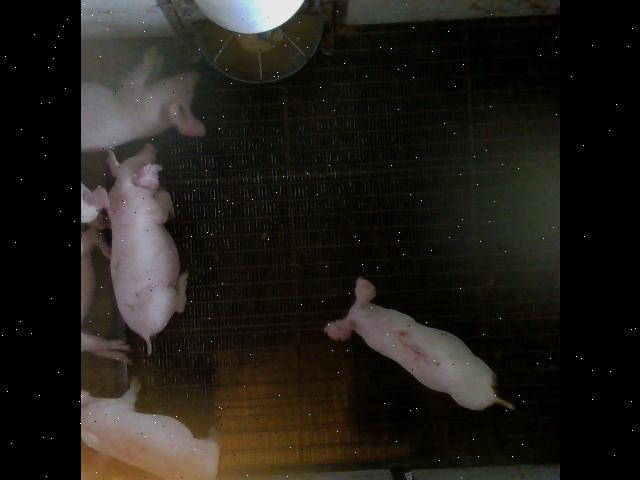pig-4: (81, 380, 219, 480)
pig-5: (324, 278, 514, 410)
